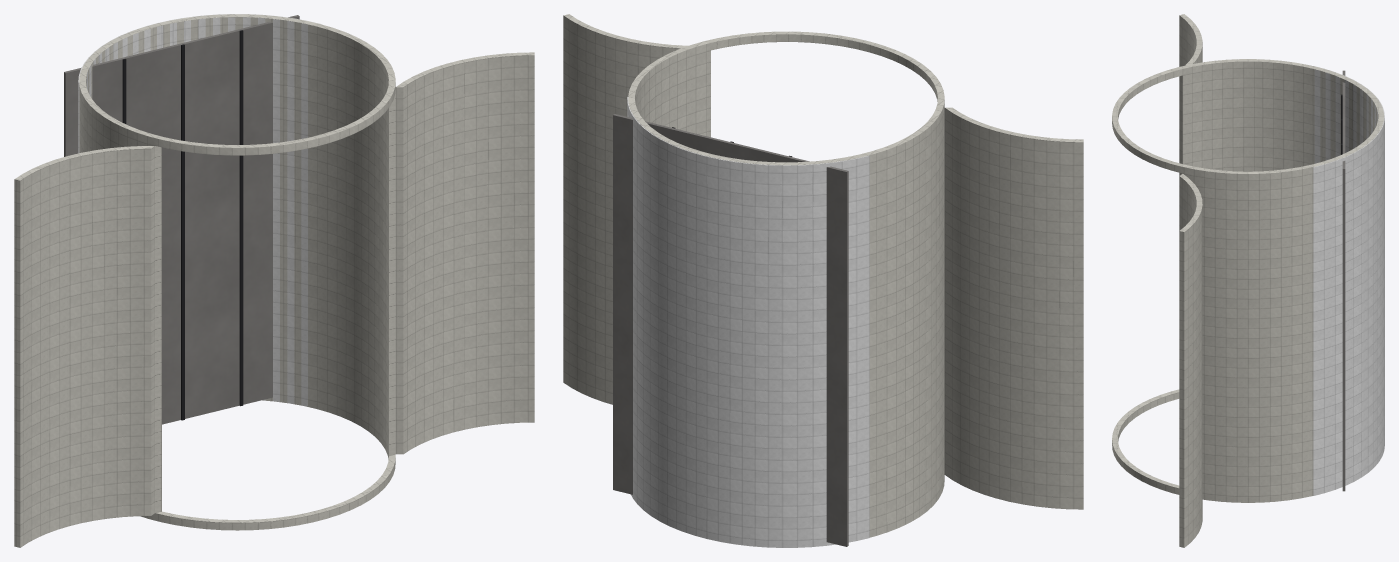
File: aero03_cargo_bay_mk3_500_open.glb
3 views of the same model, side by side, from view 1: azimuth 30°, elevation 25°; view 2: azimuth 150°, elevation 25°; view 3: azimuth 270°, elevation 25° (orthographic). The views are drawn at different scales.
Parts seen in each view (by area): view 1: fuselage, door_l, door_r, cargo_floor, belly_tiles, floor_rails; view 2: belly_tiles, door_l, fuselage, door_r, cargo_floor; view 3: fuselage, belly_tiles, door_r, cargo_floor, door_l.
Part boxes in pixels (x1,y1,x2,y2): fuselage: (79,14,395,530); door_l: (14,146,154,547); door_r: (395,52,534,454); cargo_floor: (64,15,299,424); belly_tiles: (78,14,319,406); floor_rails: (122,30,243,420); belly_tiles: (627,97,869,547); door_l: (944,107,1083,509); fuselage: (628,31,944,537); door_r: (563,14,688,404); cargo_floor: (613,114,848,546); fuselage: (1112,59,1384,502); belly_tiles: (1313,66,1384,495); door_r: (1179,173,1202,547); cargo_floor: (1342,70,1345,491); door_l: (1179,14,1202,175).
Bounding box in the file's own units: 7.11 × 5 × 3.76.
4 materials, 3 textured.
